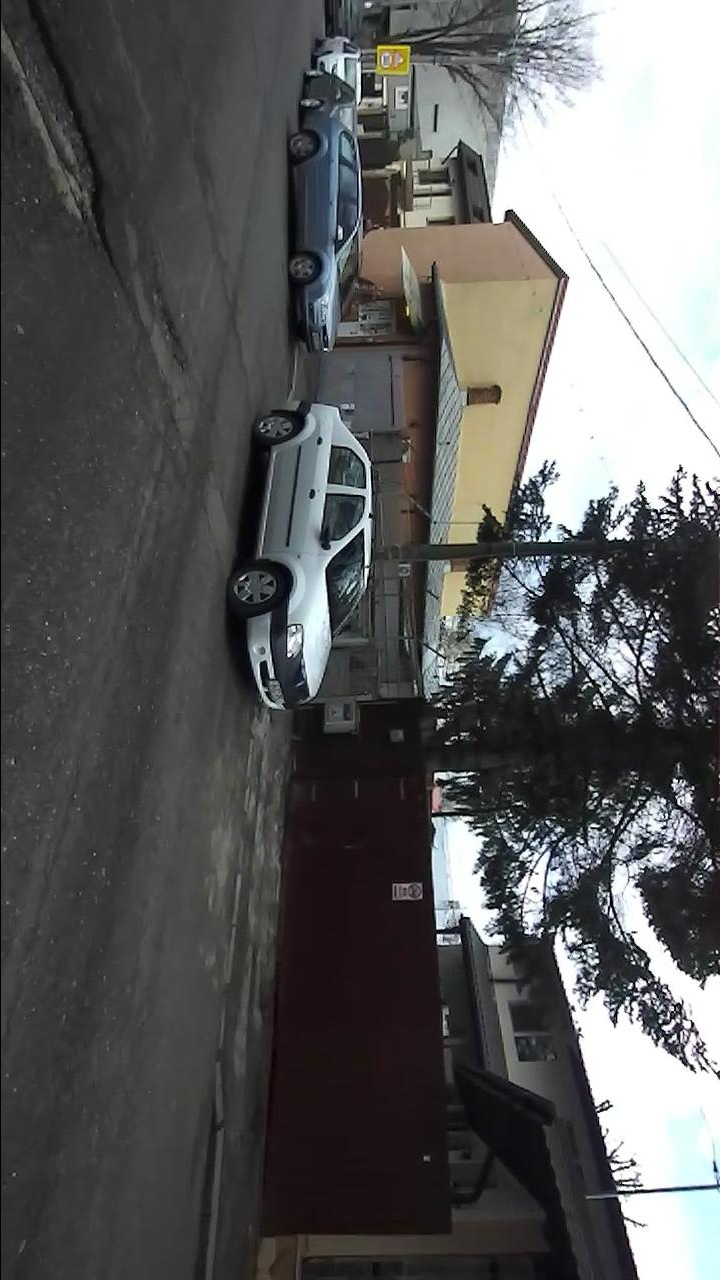pothole: (2, 1, 133, 313), (142, 243, 198, 388)
